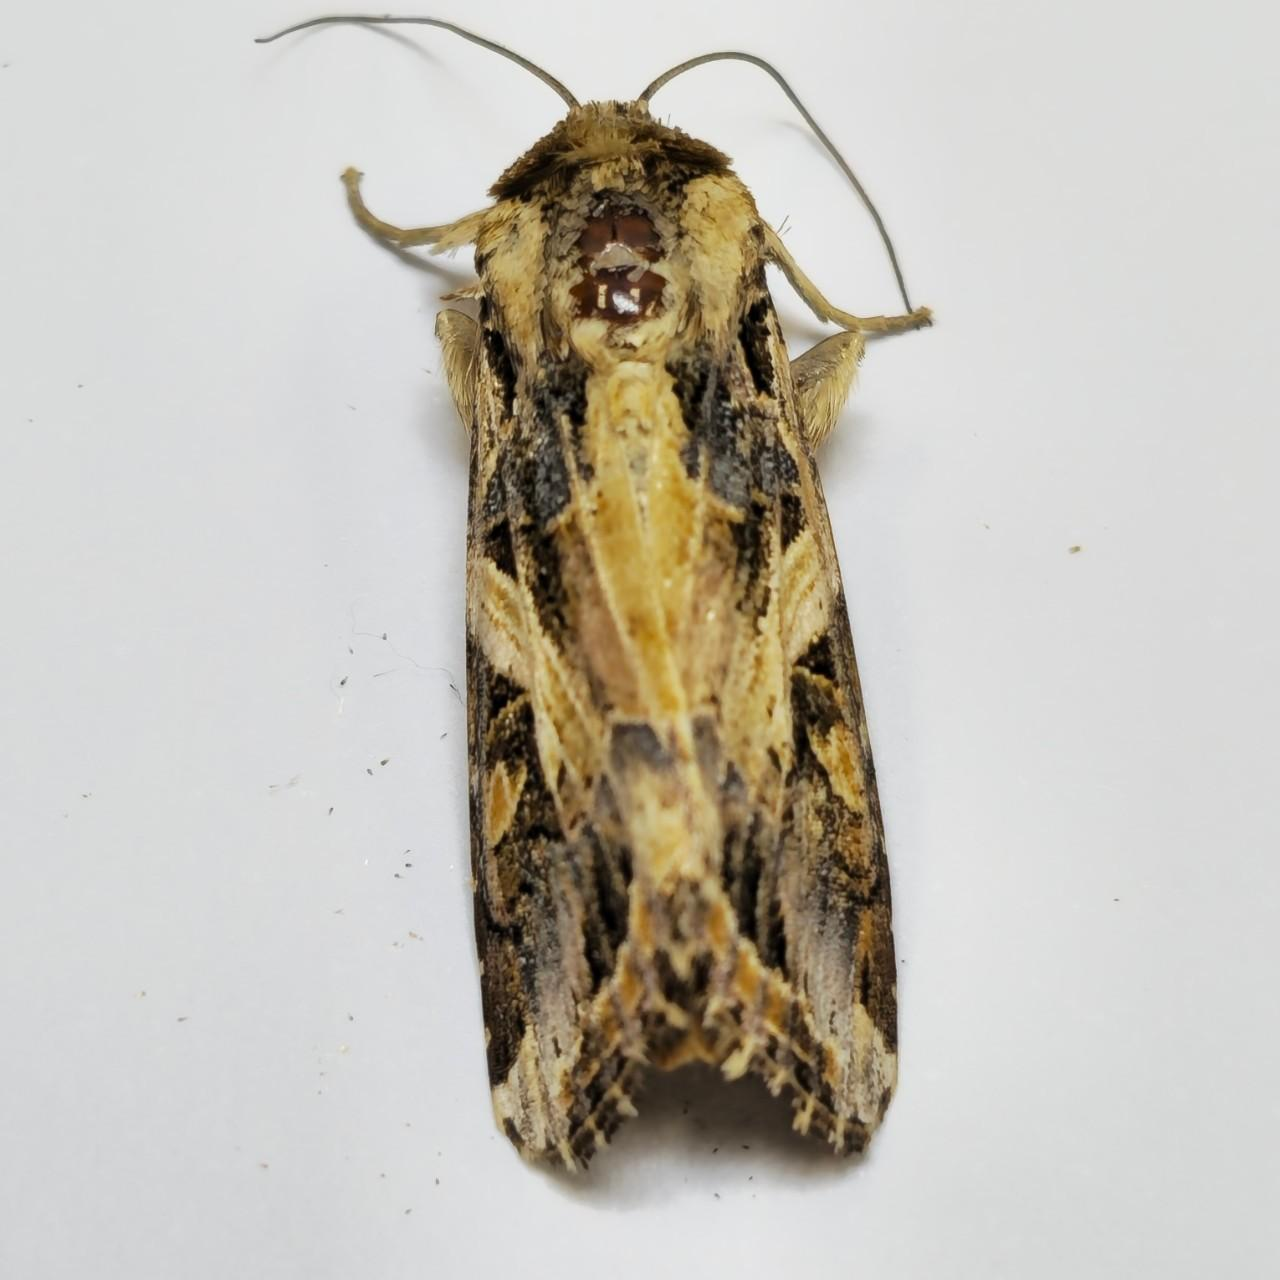Spodoptera litura: (256, 12, 933, 1179)
